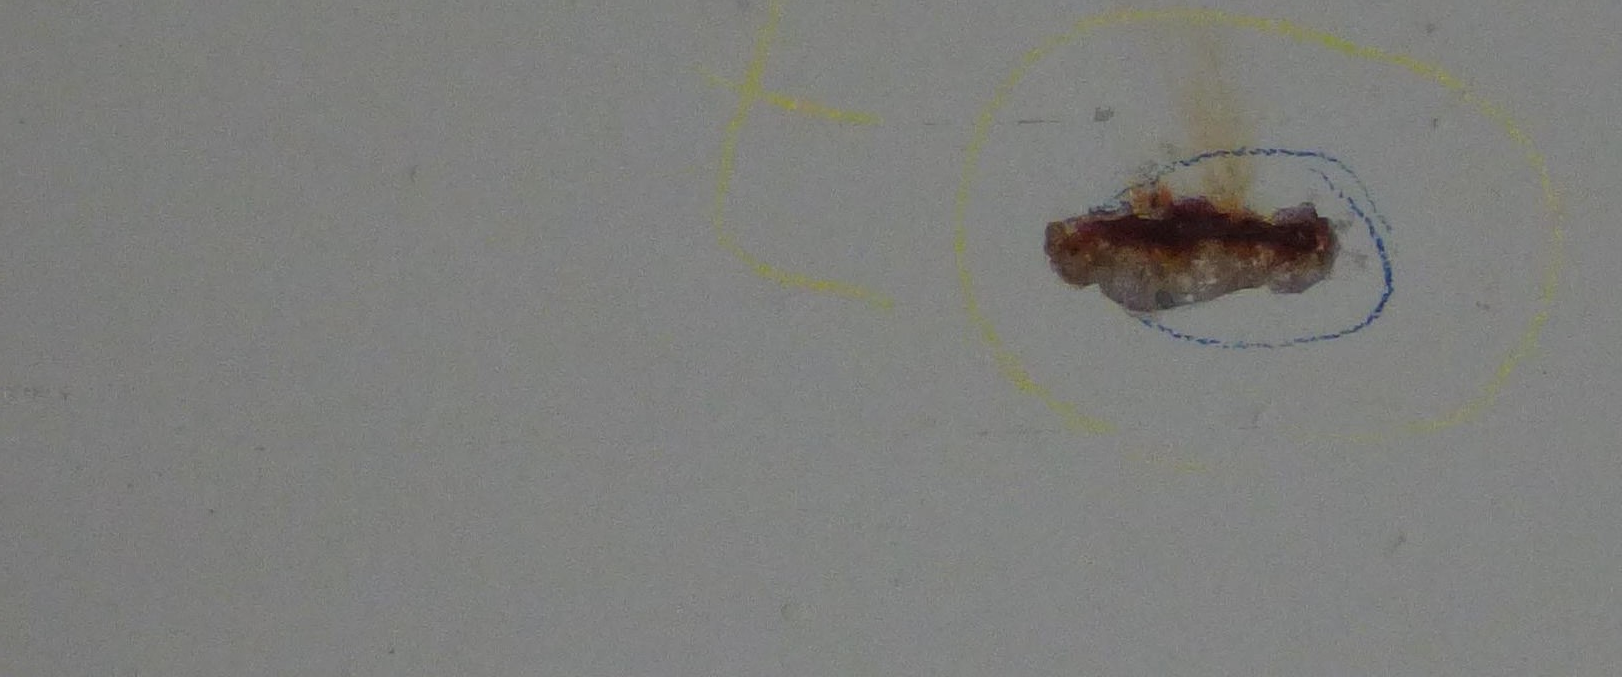Exposed reinforcement: (1097, 218, 1317, 251)
Spalling: (1043, 201, 1342, 313)
